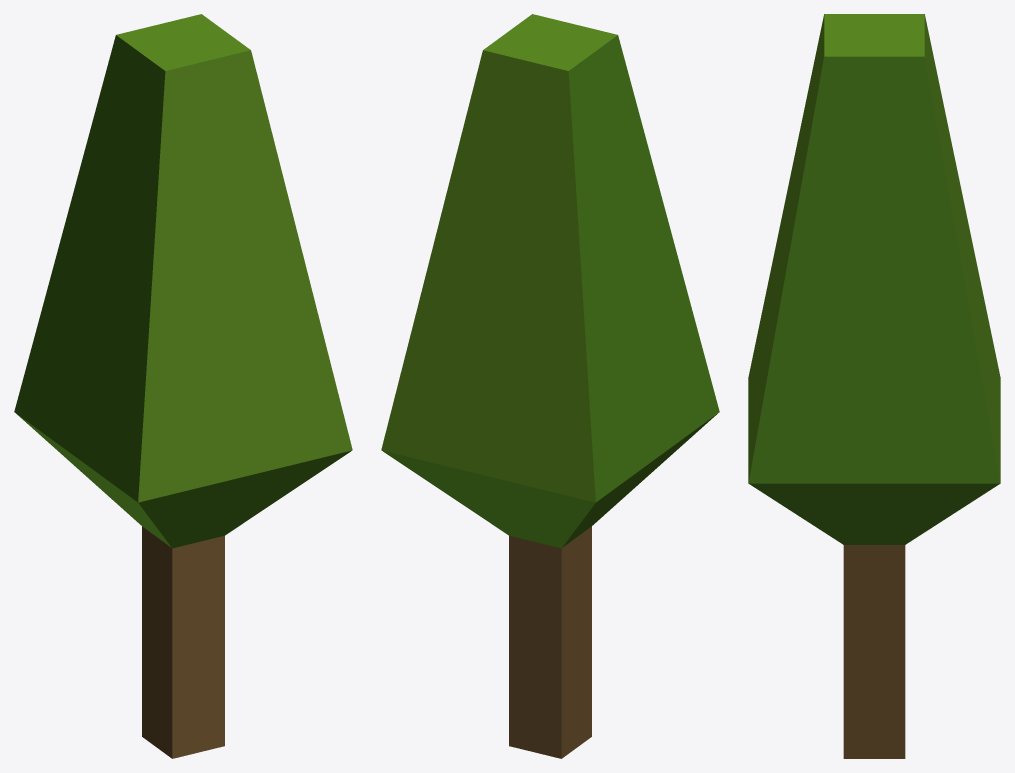
Rendered from SF_Env_BackgroundTree_01.fbx.
The picture shows the model from 3 angles, left to right: view 1: azimuth 30°, elevation 25°; view 2: azimuth 150°, elevation 25°; view 3: azimuth 270°, elevation 25°; orthographic projection.
Visible parts, largest first — view 1: SF_Env_BackgroundTree_01; view 2: SF_Env_BackgroundTree_01; view 3: SF_Env_BackgroundTree_01.
Boxes of the visible parts, x1,y1,x2,y2 form: SF_Env_BackgroundTree_01: [14, 14, 352, 758]; SF_Env_BackgroundTree_01: [381, 14, 719, 758]; SF_Env_BackgroundTree_01: [748, 14, 1000, 758].
Size of the model in its own units: 3.08 by 9.58 by 3.08.
